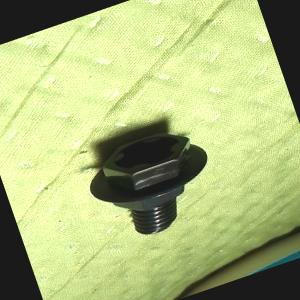parafuso: (78, 117, 226, 248)
